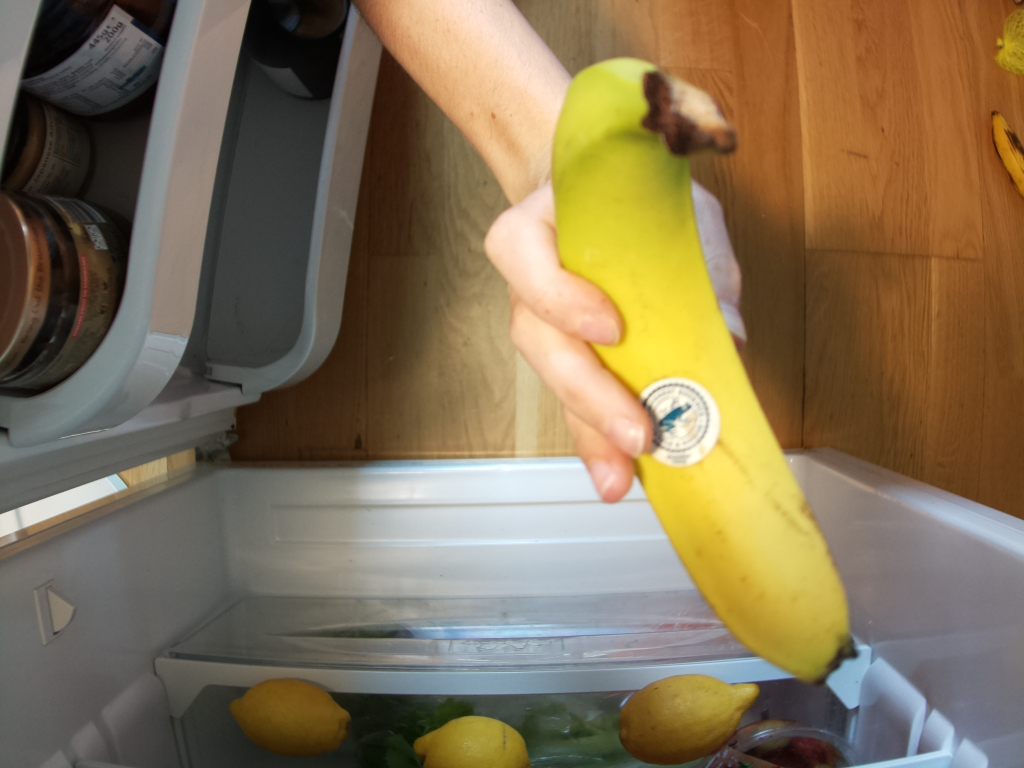banana: (549, 52, 859, 682)
